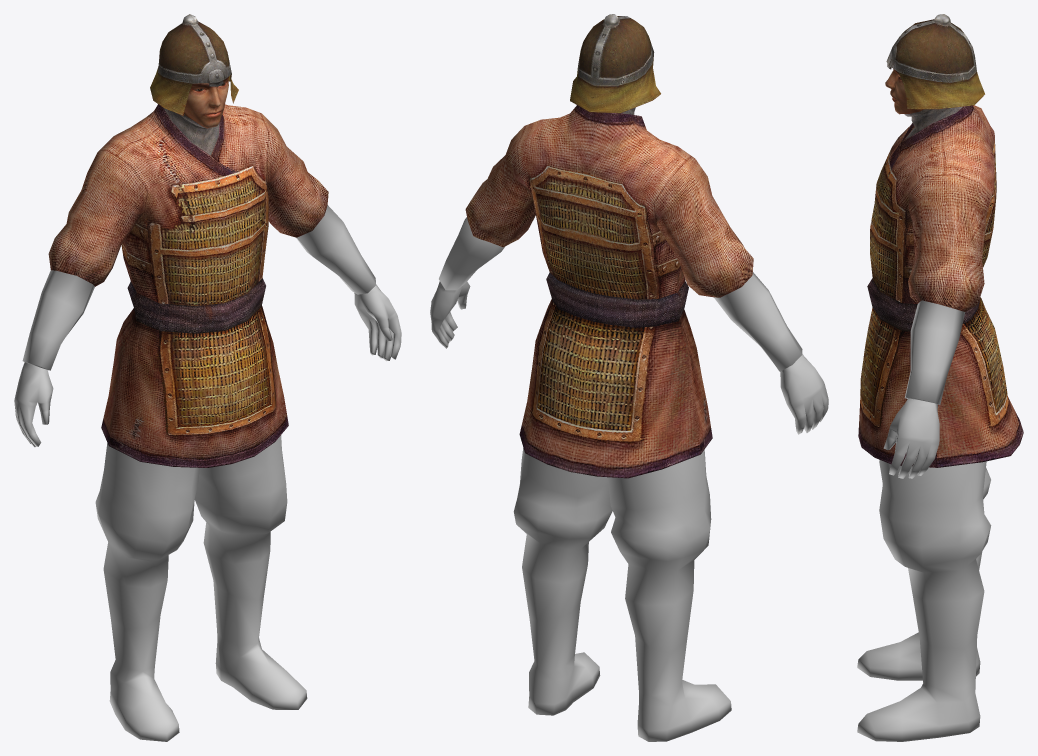
3 views of the same model, side by side, from view 1: azimuth 30°, elevation 25°; view 2: azimuth 150°, elevation 25°; view 3: azimuth 270°, elevation 25° (orthographic). The views are drawn at different scales.
Parts seen in each view (by area): view 1: 3dxy; view 2: 3dxy; view 3: 3dxy.
Boxes of the visible parts, <box> form: 3dxy: <box>14,14,401,741</box>; 3dxy: <box>430,14,828,741</box>; 3dxy: <box>857,14,1023,741</box>.
Size of the model in its own units: 1.04 by 1.78 by 0.3926.
